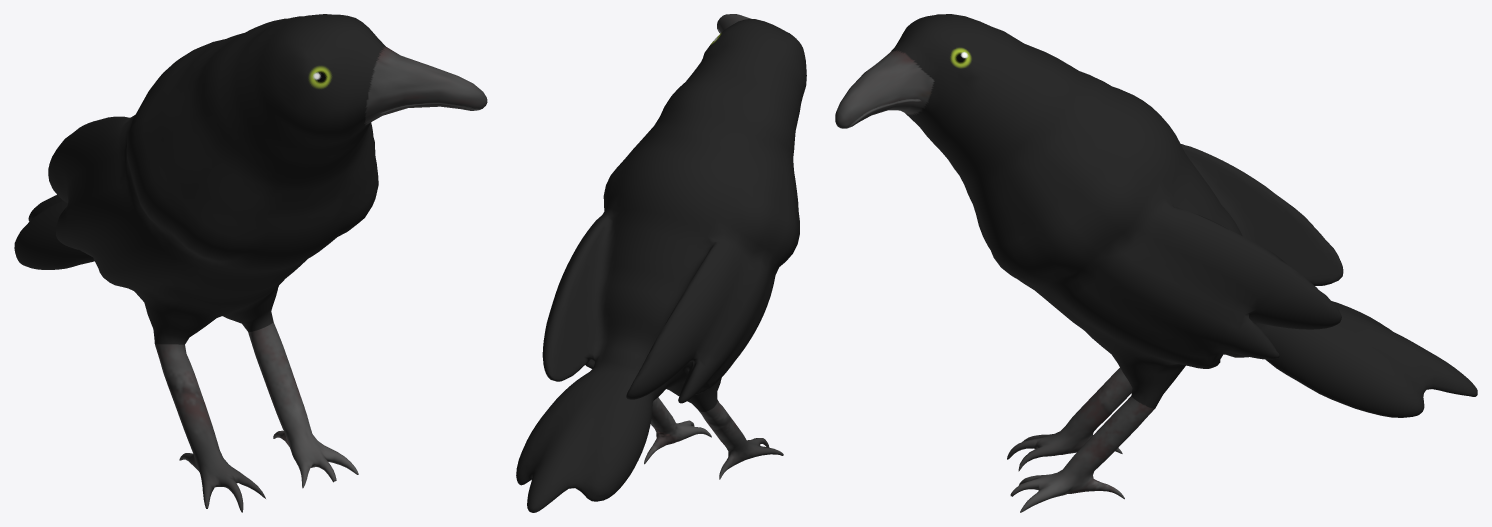
File: Crow.fbx
The picture shows the model from 3 angles, left to right: view 1: azimuth 30°, elevation 25°; view 2: azimuth 150°, elevation 25°; view 3: azimuth 270°, elevation 25°; orthographic projection. The views are drawn at different scales.
Parts seen in each view (by area): view 1: Corvo; view 2: Corvo; view 3: Corvo.
Boxes of the visible parts, x1=… form: Corvo: x1=14, y1=14, x2=487, y2=512; Corvo: x1=516, y1=14, x2=806, y2=512; Corvo: x1=835, y1=14, x2=1477, y2=512.
Bounding box in the file's own units: 0.1298 × 0.2788 × 0.3507.
